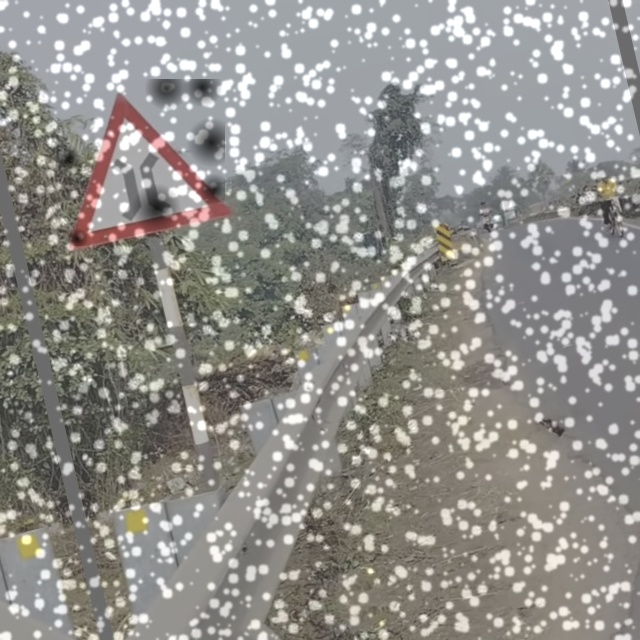Narrow_Bridge: (46, 79, 225, 246)
